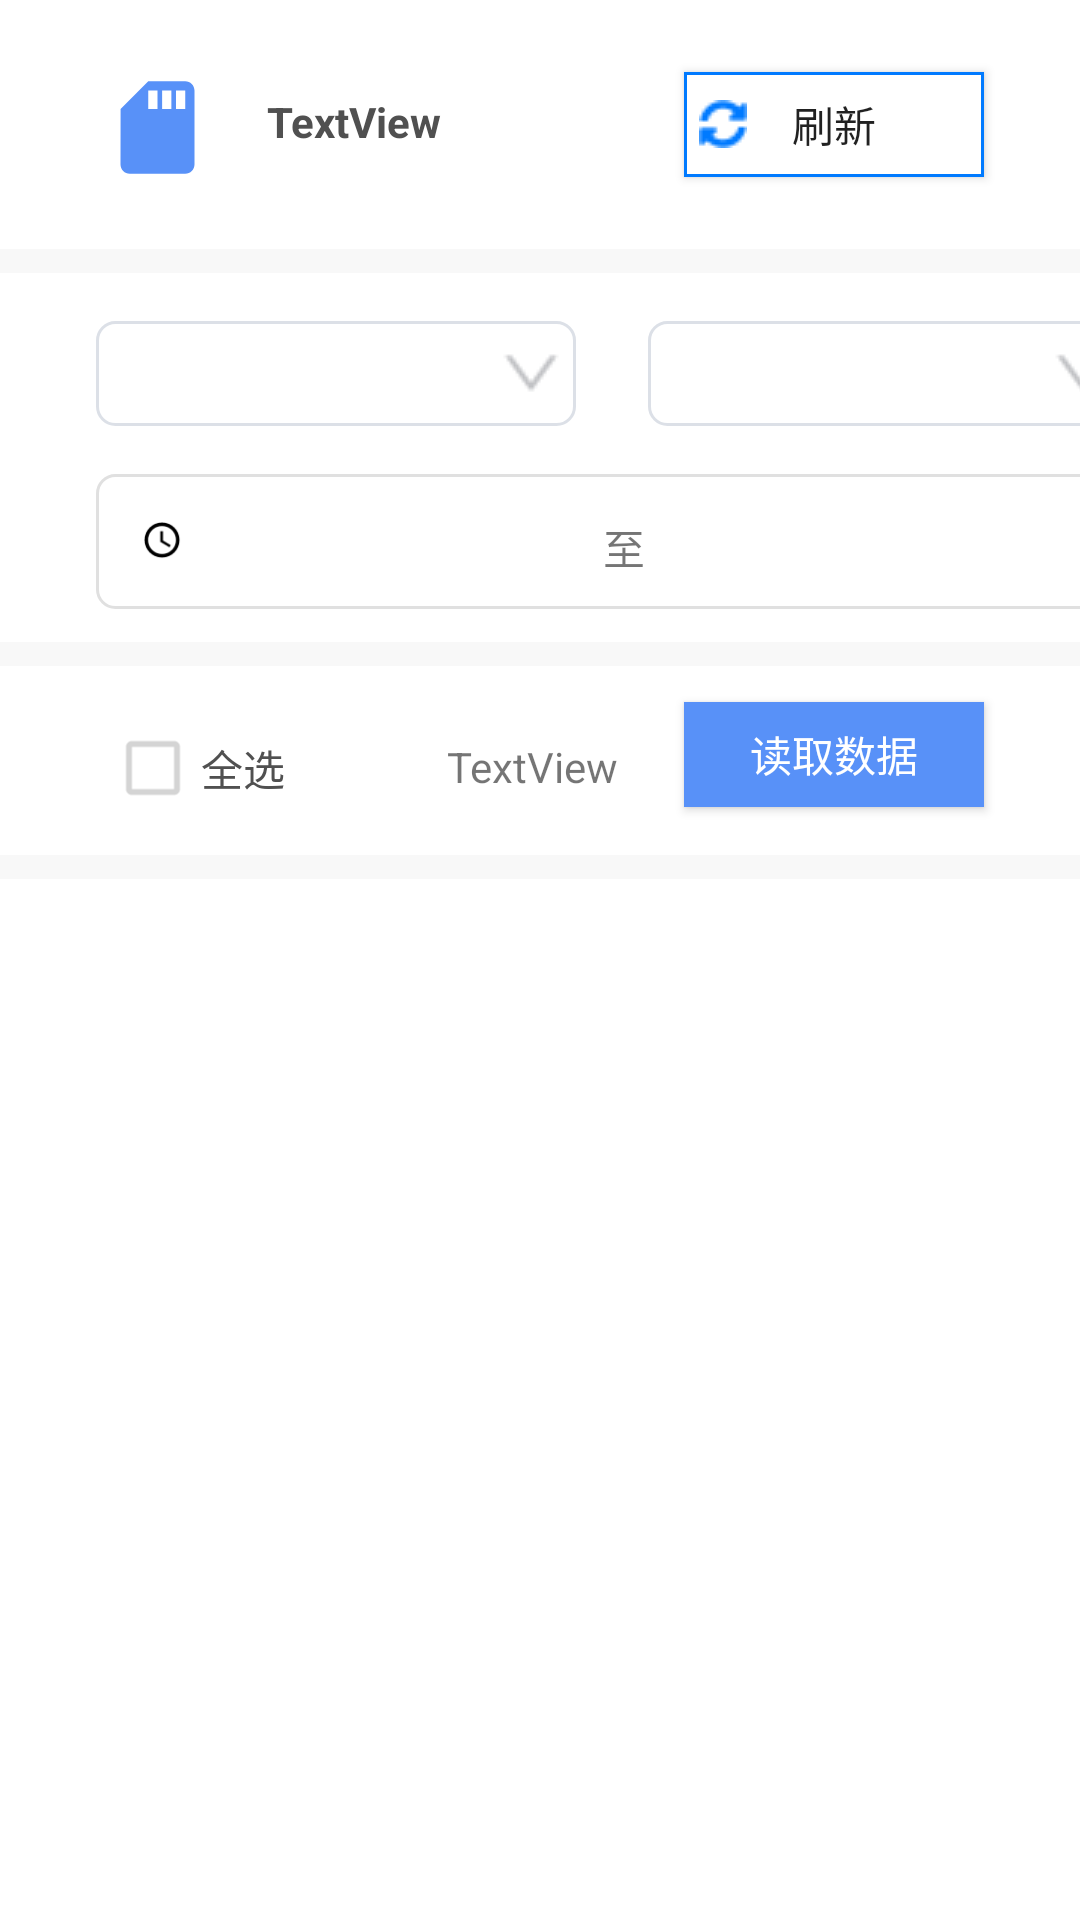

Icon click points for this 1080px×1920px phone screenshot, format (x=x, y=y):
sdcard: (x=157, y=127)
time: (x=162, y=540)
